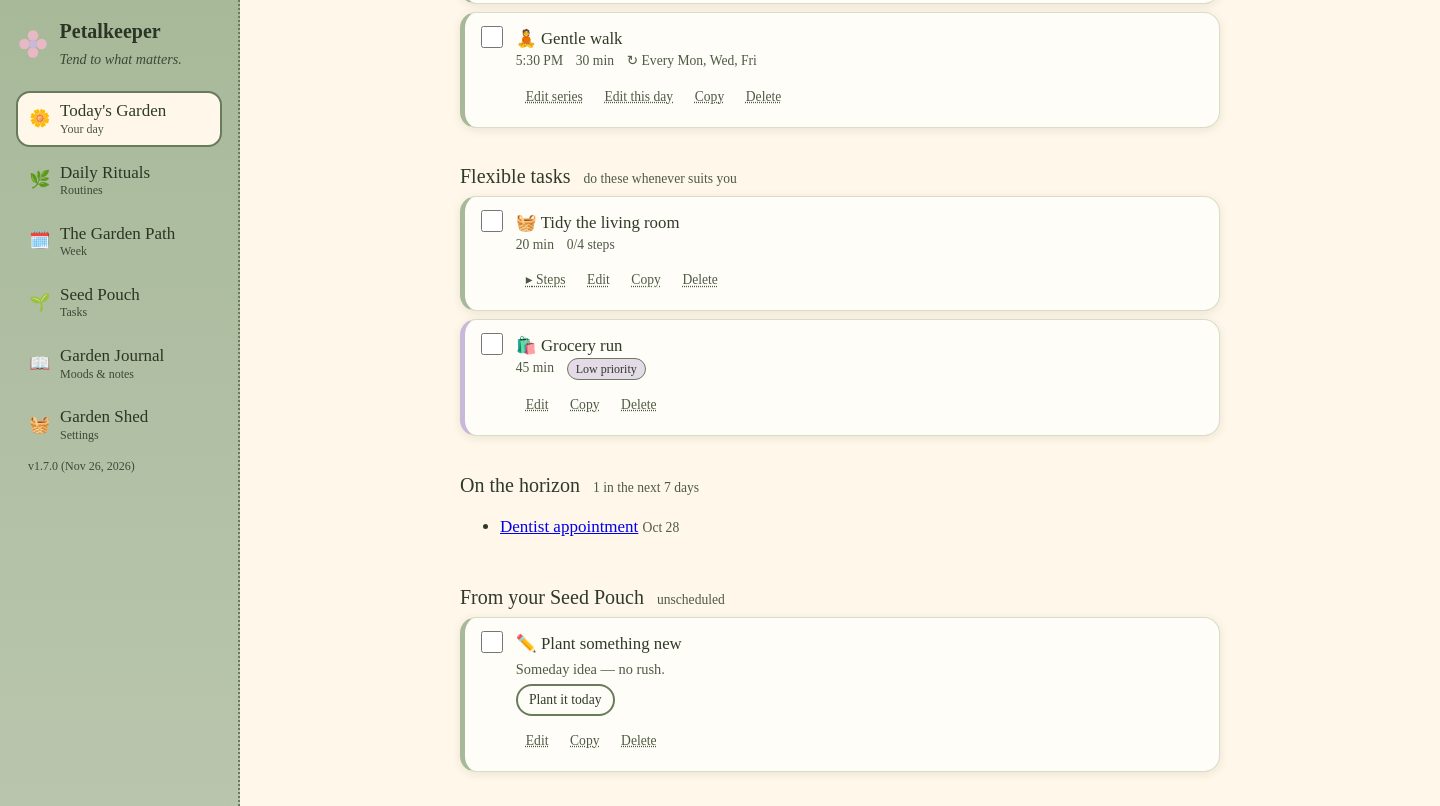
Test: new UI › undo brings a deleted task back
(page scrolled)
Step 1. Click the button with aria-label "Delete Grocery run" → click(639, 405), box [611, 388, 667, 422]
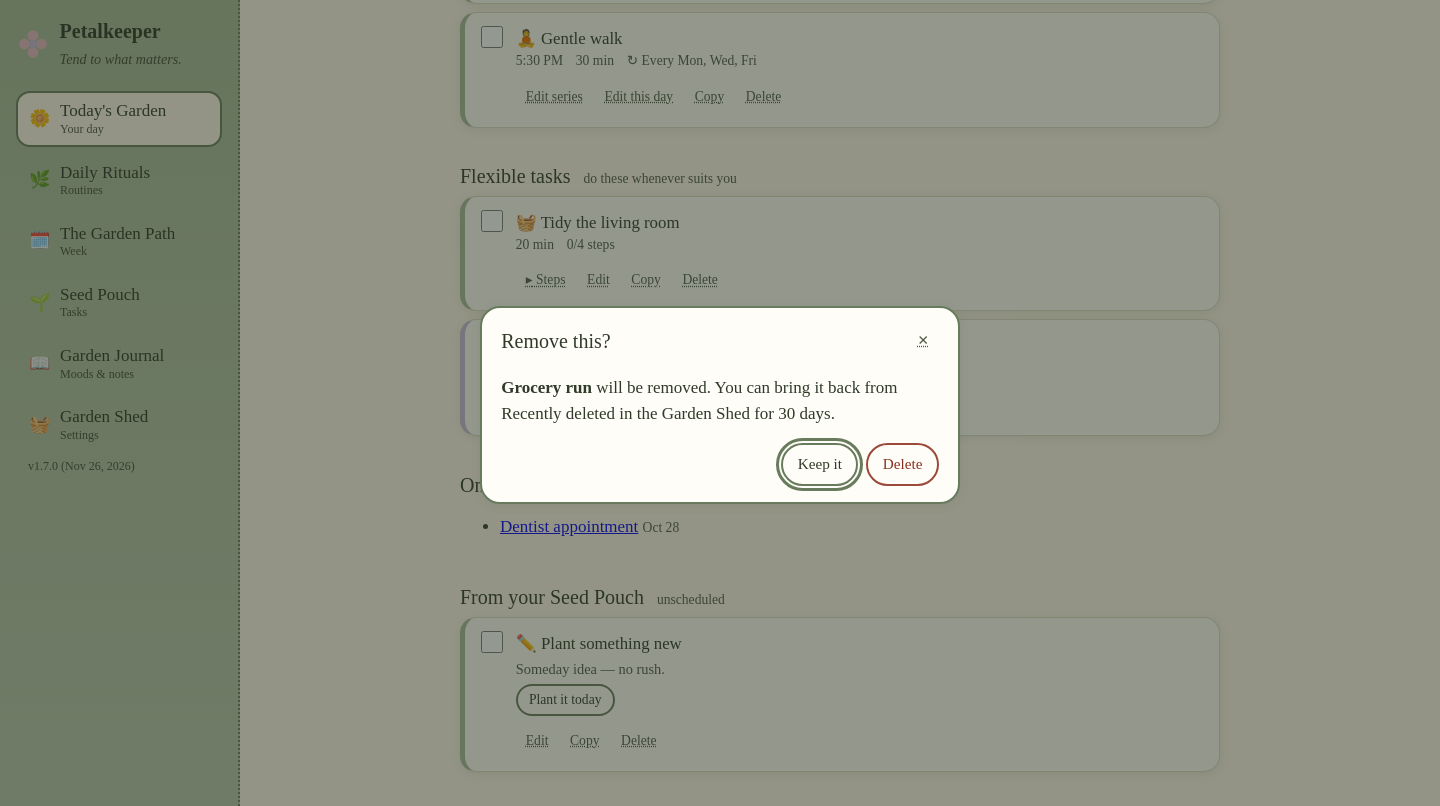
Step 2. Click the button "Delete" → click(903, 464), box [866, 443, 939, 486]
(page scrolled)
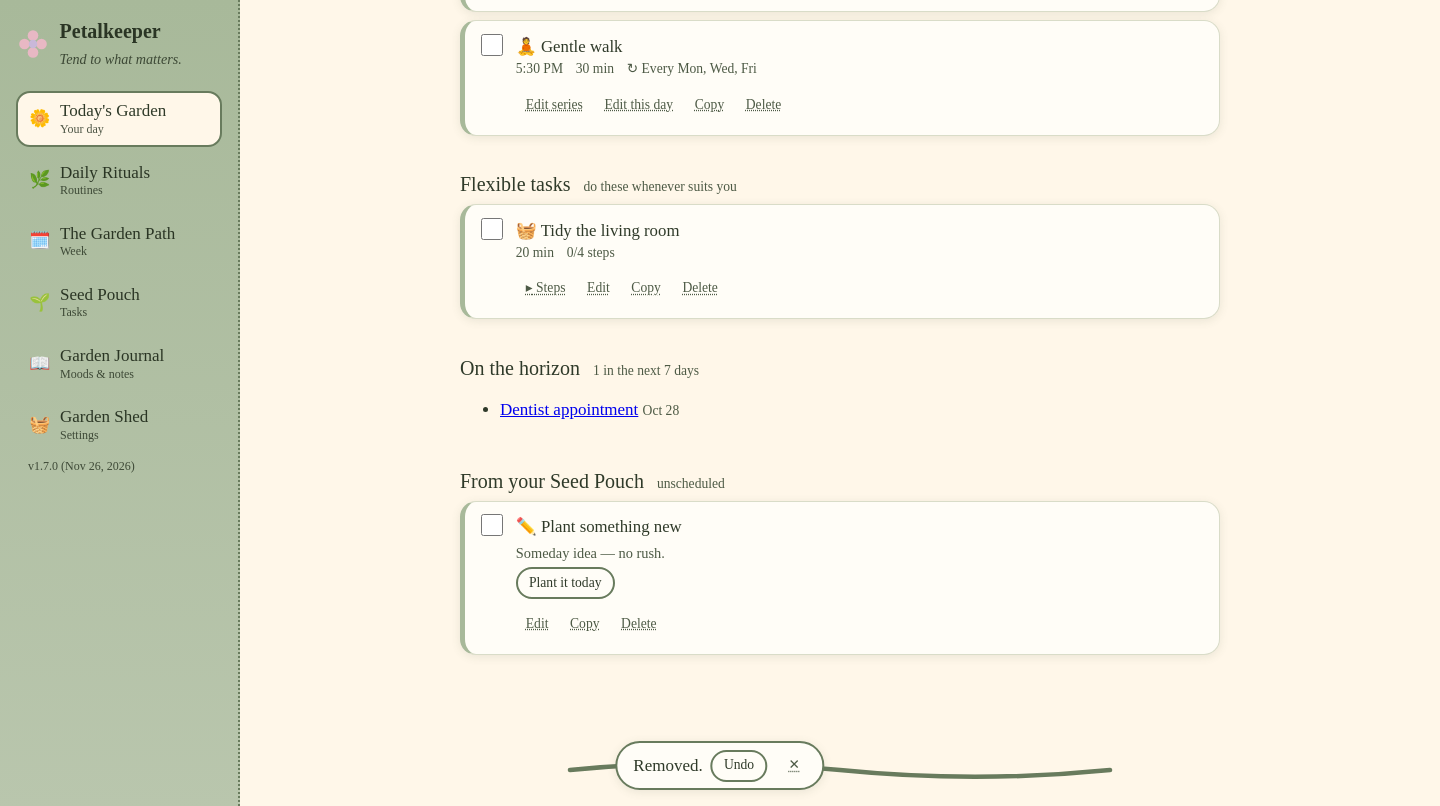
Check: the text "Grocery run" is gone
Step 3. Click the button "Undo" → click(739, 766), box [711, 750, 767, 782]
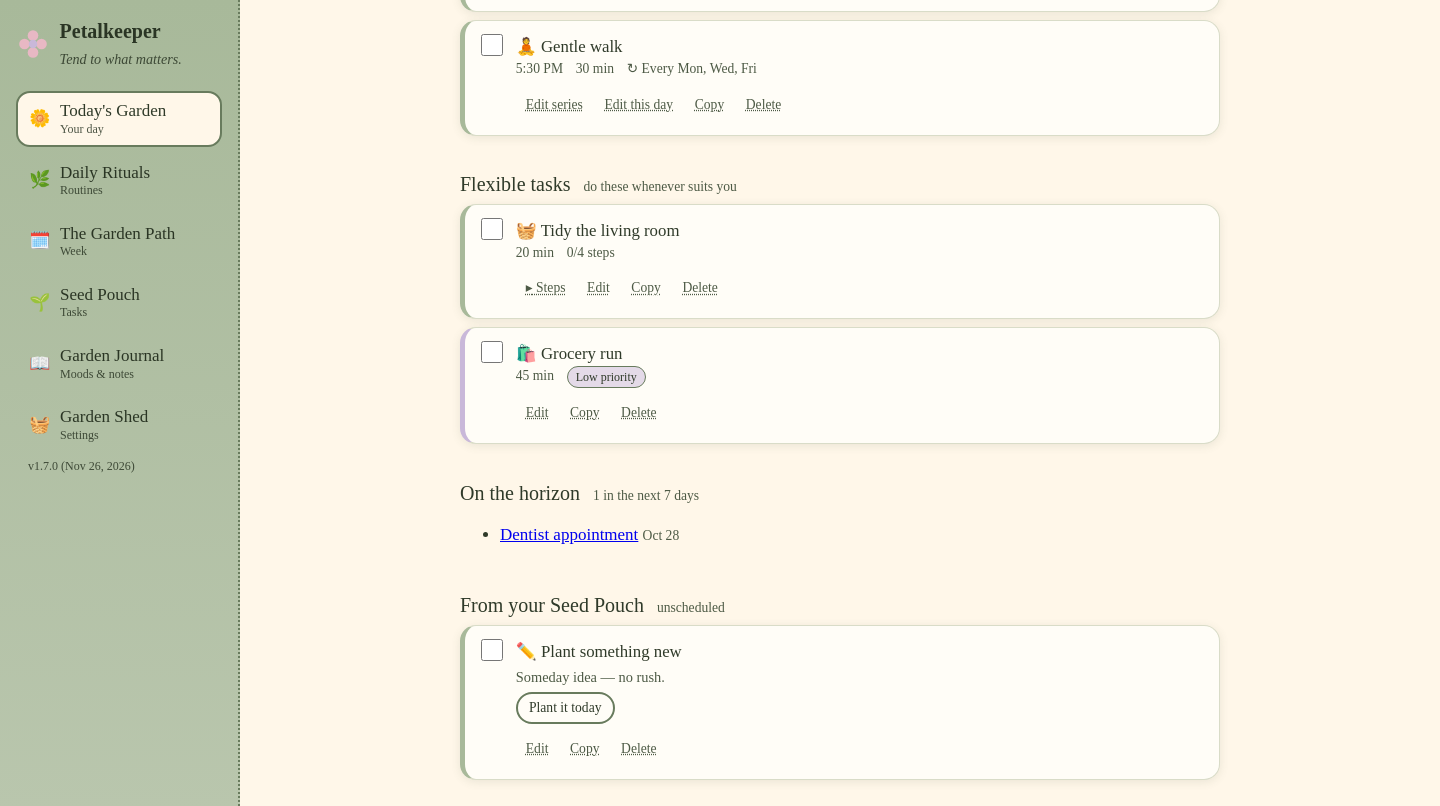
Check: the text "Grocery run" is shown, box [541, 344, 622, 363]
